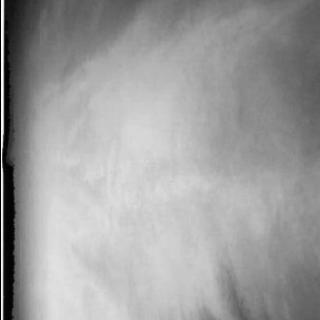Cirrostratus: (22, 0, 320, 320)
